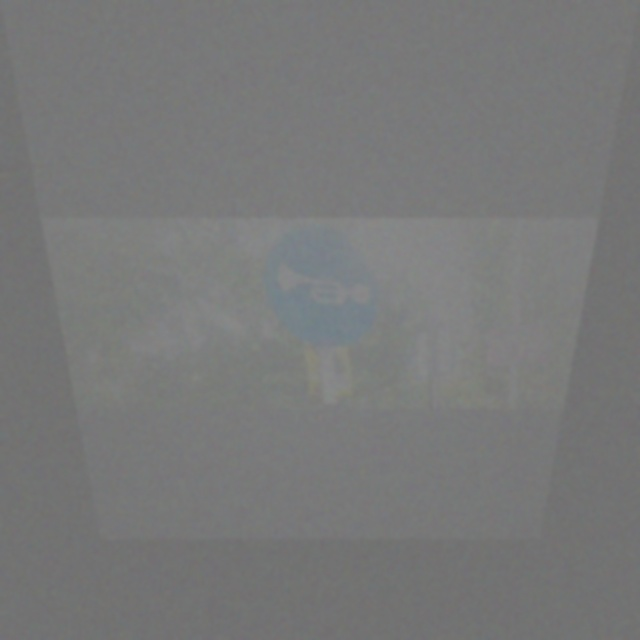Compulsory_Sound_Horn: (262, 228, 388, 343)
